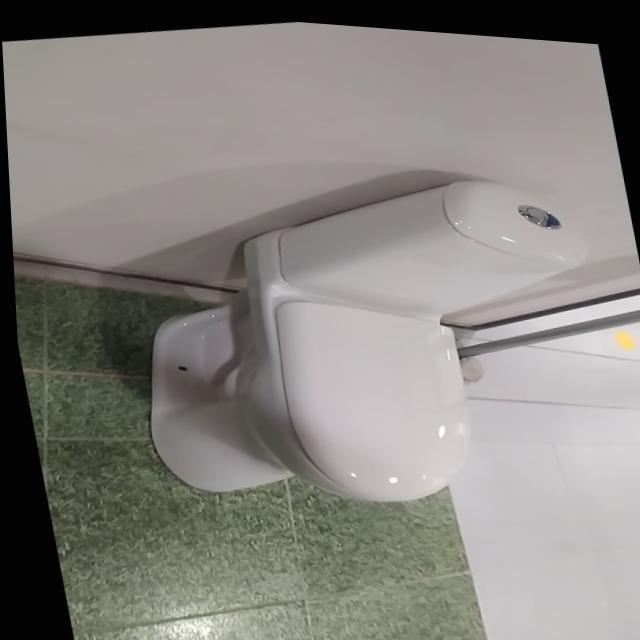toilet: (99, 134, 636, 543)
